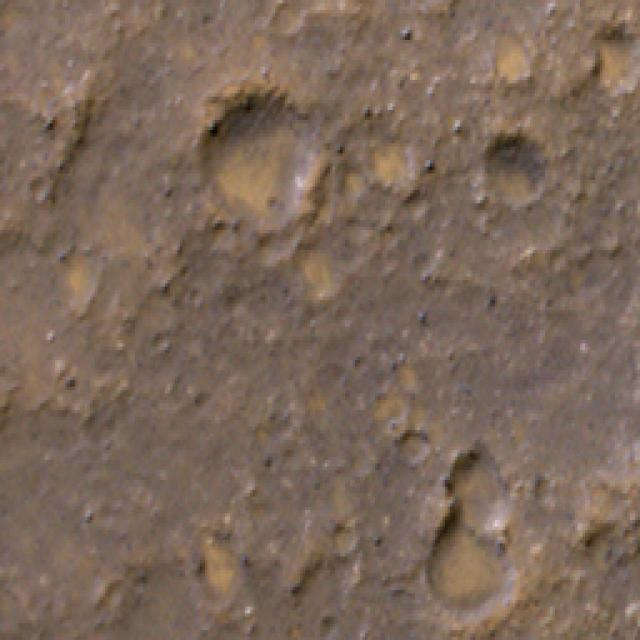Crater: (185, 76, 345, 256)
